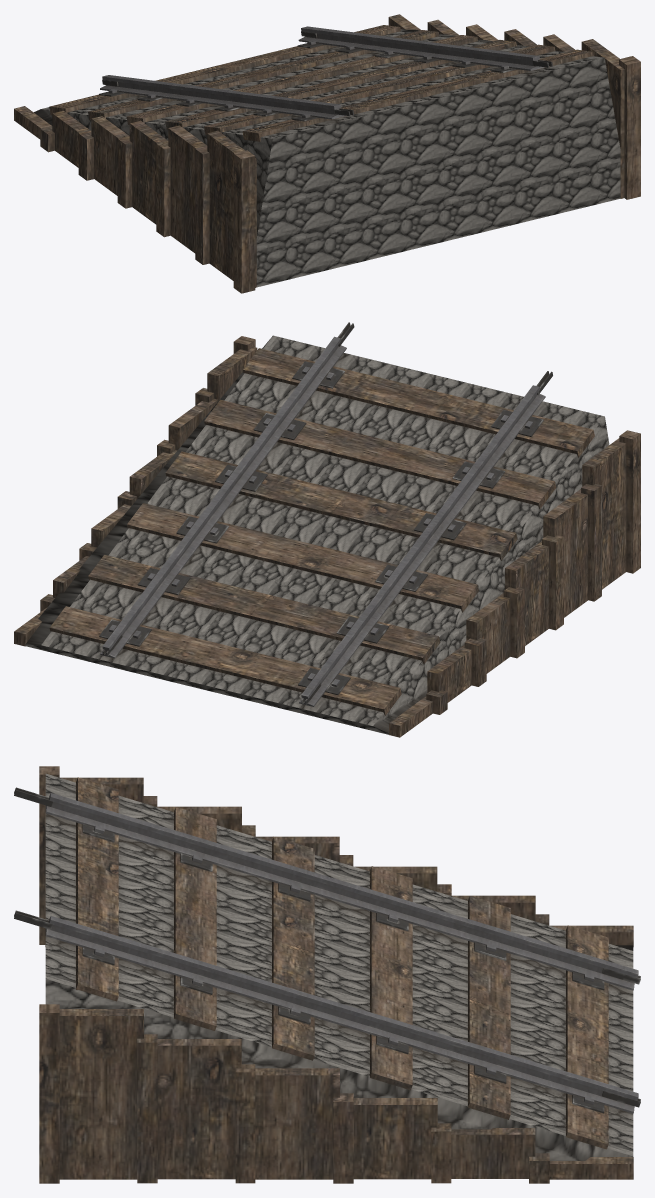
File: feRailRamp_HD.fbx
3 views of the same model, one above another, from view 1: azimuth 30°, elevation 25°; view 2: azimuth 150°, elevation 25°; view 3: azimuth 270°, elevation 25° (orthographic). The views are drawn at different scales.
Visible parts, largest first — view 1: feRailRamp_Track; view 2: feRailRamp_Track; view 3: feRailRamp_Track.
Part boxes in pixels (bbox=[...]): feRailRamp_Track: bbox=[14, 14, 640, 293]; feRailRamp_Track: bbox=[14, 322, 640, 737]; feRailRamp_Track: bbox=[14, 766, 640, 1183].
Bounding box in the file's own units: 2.98 × 1.18 × 3.2.
1 material, 1 textured.
